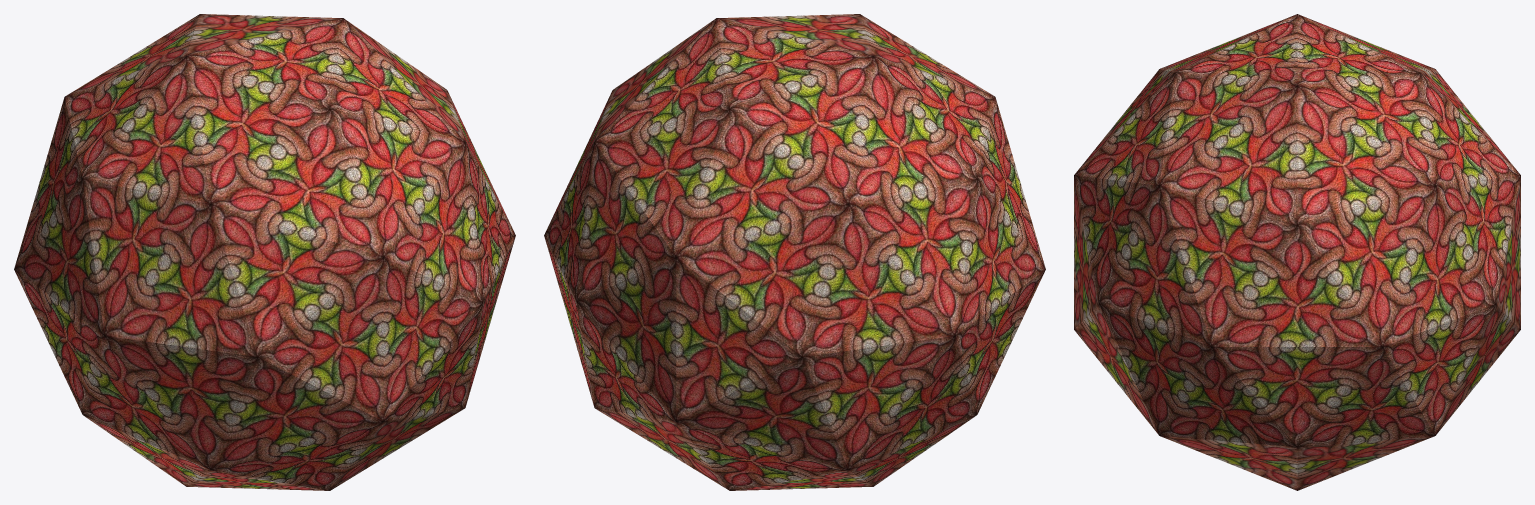
File: PentakisDodecahedron1.obj
3 renders of one model, left to right at view 1: azimuth 30°, elevation 25°; view 2: azimuth 150°, elevation 25°; view 3: azimuth 270°, elevation 25°, orthographic. The views are drawn at different scales.
Bounding box in the file's own units: 4.85 × 4.85 × 4.85.
1 material, 1 textured.
